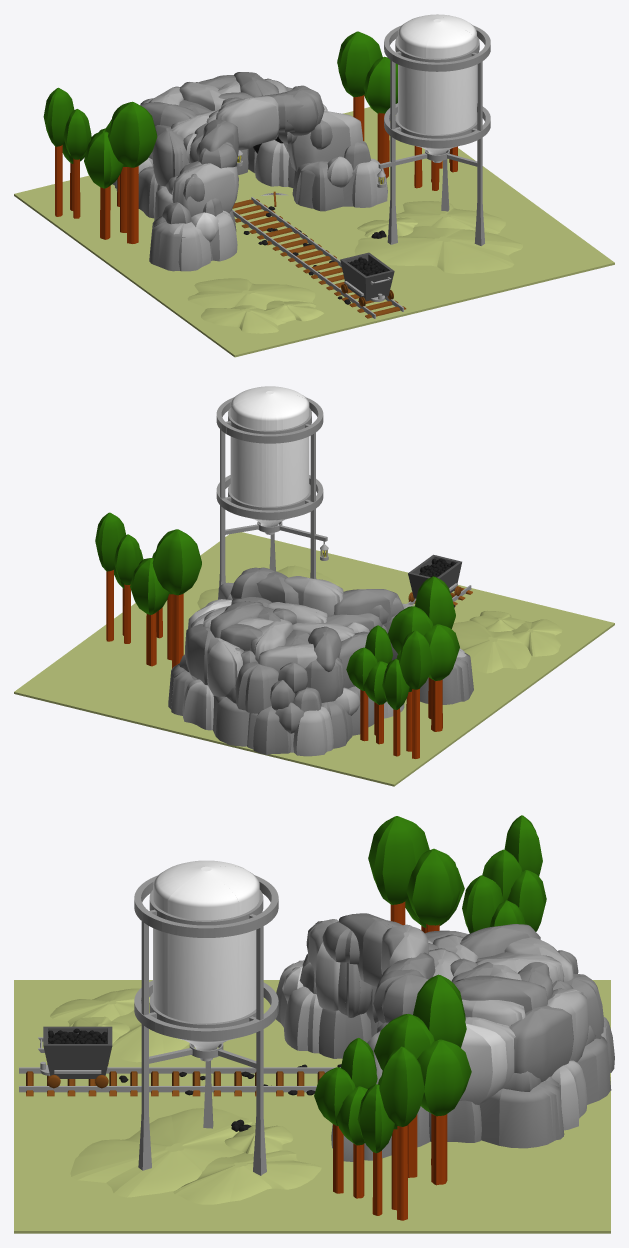
The picture shows the model from 3 angles, top to bottom: view 1: azimuth 30°, elevation 25°; view 2: azimuth 150°, elevation 25°; view 3: azimuth 270°, elevation 25°; orthographic projection. The views are drawn at different scales.
Parts seen in each view (by area): view 1: Object_7, Object_8, Object_9, Object_13, Object_4, Object_5, Object_12, Object_3, Object_2, Object_6, Object_10, Object_11; view 2: Object_7, Object_8, Object_13, Object_9, Object_4, Object_5, Object_12, Object_6; view 3: Object_7, Object_8, Object_13, Object_9, Object_4, Object_5, Object_12, Object_2, Object_11, Object_6, Object_3, Object_10.
Part boxes in pixels (x1=…): Object_7: x1=14, y1=107, x2=614, y2=357; Object_8: x1=116, y1=72, x2=371, y2=271; Object_9: x1=112, y1=78, x2=387, y2=271; Object_13: x1=43, y1=31, x2=397, y2=188; Object_4: x1=398, y1=14, x2=476, y2=162; Object_5: x1=378, y1=25, x2=490, y2=245; Object_12: x1=55, y1=95, x2=457, y2=243; Object_3: x1=232, y1=191, x2=406, y2=318; Object_2: x1=232, y1=150, x2=403, y2=318; Object_6: x1=340, y1=252, x2=394, y2=301; Object_10: x1=237, y1=136, x2=387, y2=304; Object_11: x1=191, y1=104, x2=327, y2=242; Object_7: x1=14, y1=532, x2=614, y2=786; Object_8: x1=168, y1=567, x2=473, y2=754; Object_13: x1=95, y1=512, x2=459, y2=709; Object_9: x1=182, y1=576, x2=466, y2=756; Object_4: x1=230, y1=386, x2=309, y2=534; Object_5: x1=216, y1=397, x2=327, y2=585; Object_12: x1=106, y1=570, x2=442, y2=758; Object_6: x1=408, y1=554, x2=461, y2=598; Object_7: x1=14, y1=980, x2=610, y2=1233; Object_8: x1=295, y1=913, x2=614, y2=1160; Object_13: x1=314, y1=815, x2=546, y2=1153; Object_9: x1=276, y1=919, x2=606, y2=1161; Object_4: x1=153, y1=860, x2=259, y2=1061; Object_5: x1=134, y1=875, x2=278, y2=1175; Object_12: x1=333, y1=901, x2=447, y2=1220; Object_2: x1=19, y1=1037, x2=340, y2=1092; Object_11: x1=282, y1=966, x2=507, y2=1104; Object_6: x1=43, y1=1026, x2=112, y2=1078; Object_3: x1=26, y1=1063, x2=324, y2=1096; Object_10: x1=48, y1=1028, x2=341, y2=1131.
Bounding box in the file's own units: 200 × 109 × 201.
